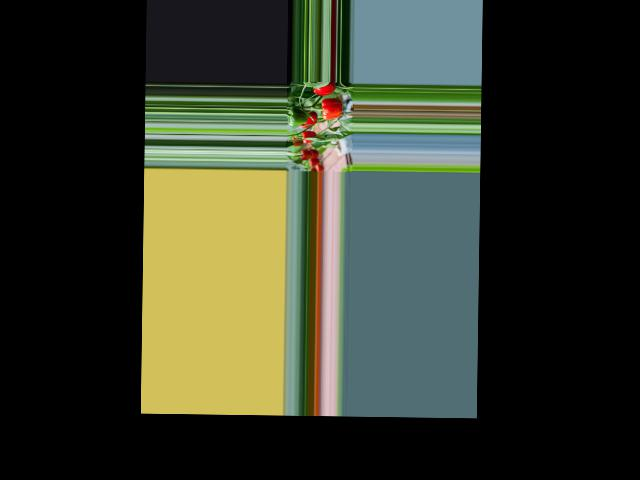bell_pepper: (298, 130, 320, 144)
